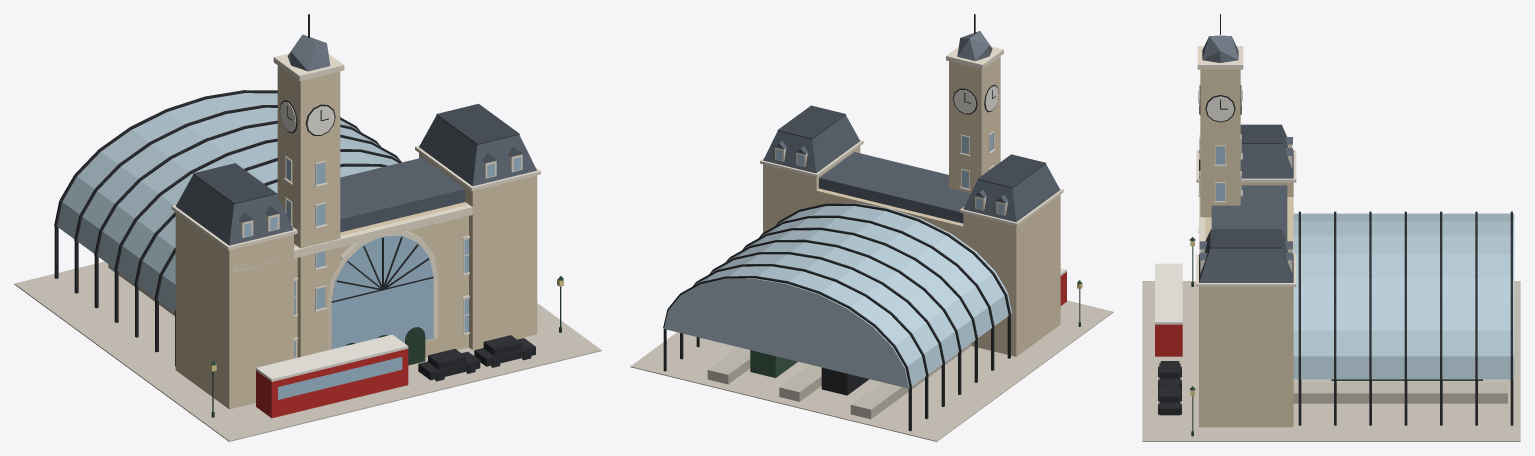
Rendered from Simge_gar_Hafif.fbx.
The picture shows the model from 3 angles, left to right: view 1: azimuth 30°, elevation 25°; view 2: azimuth 150°, elevation 25°; view 3: azimuth 270°, elevation 25°; orthographic projection. The views are drawn at different scales.
Visible parts, largest first — view 1: Simge_gar_Hafif; view 2: Simge_gar_Hafif; view 3: Simge_gar_Hafif.
Boxes of the visible parts, bbox=[...] form: Simge_gar_Hafif: bbox=[14, 14, 601, 441]; Simge_gar_Hafif: bbox=[630, 14, 1113, 441]; Simge_gar_Hafif: bbox=[1142, 14, 1520, 441].
Bounding box in the file's own units: 30 × 28.08 × 30.
